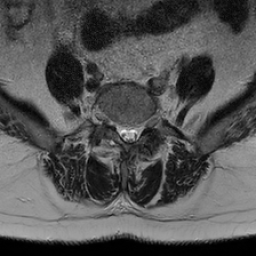CCS_normal: (125, 117, 133, 148)
LFS_normal: (142, 109, 150, 136)
LLS_normal: (133, 117, 142, 145)
RFS_stenosis: (109, 110, 117, 136)
RLS_normal: (117, 116, 125, 145)
